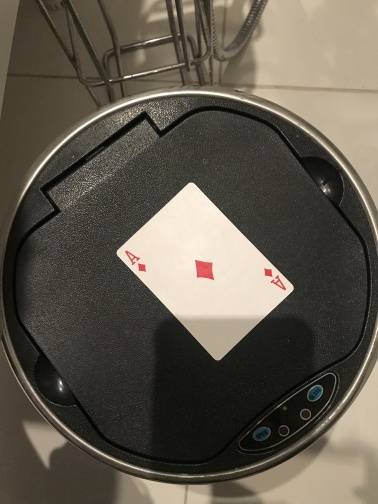ace: (115, 181, 296, 363)
